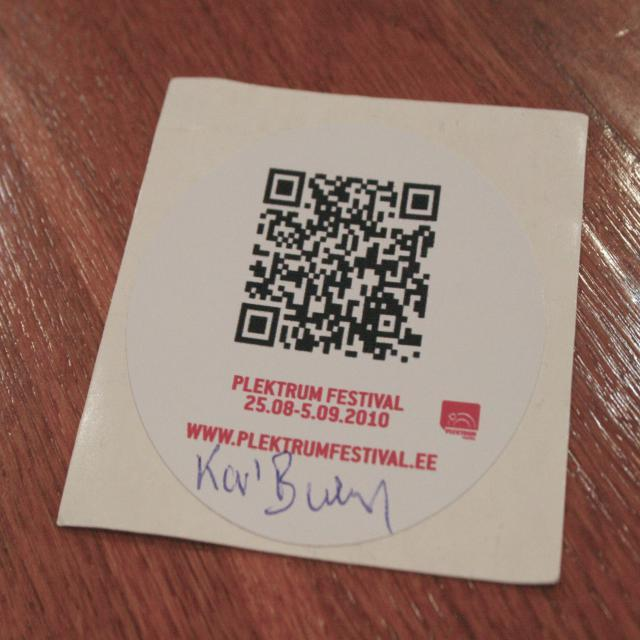qrcode: (235, 168, 443, 366)
